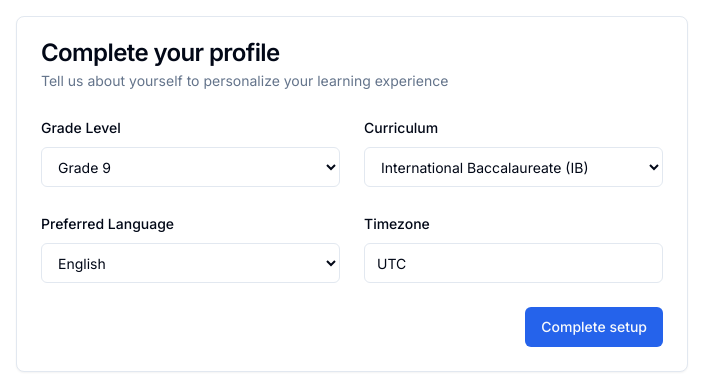
SetupProfilePage › Profile Creation - Success › should show loading state during submission
The width and height of the screenshot is (705, 389).
Click the button "Complete setup" at (594, 327), box top-left (525, 307), bottom-right (663, 347)
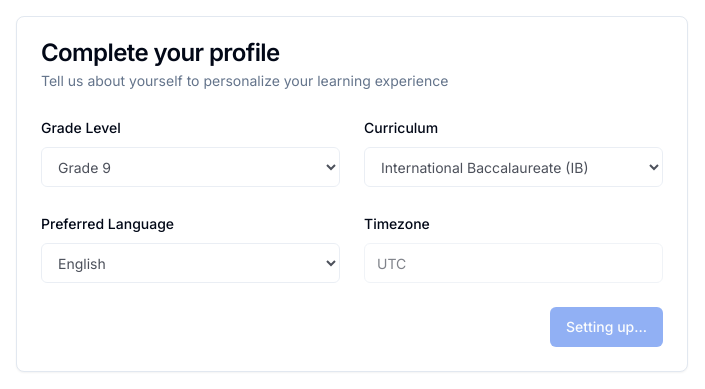
expect the button "Setting up..." is shown: met, box top-left (550, 307), bottom-right (663, 347)
expect the dropdown labelled "Grade Level" is disabled: met, box top-left (41, 147), bottom-right (340, 187)
